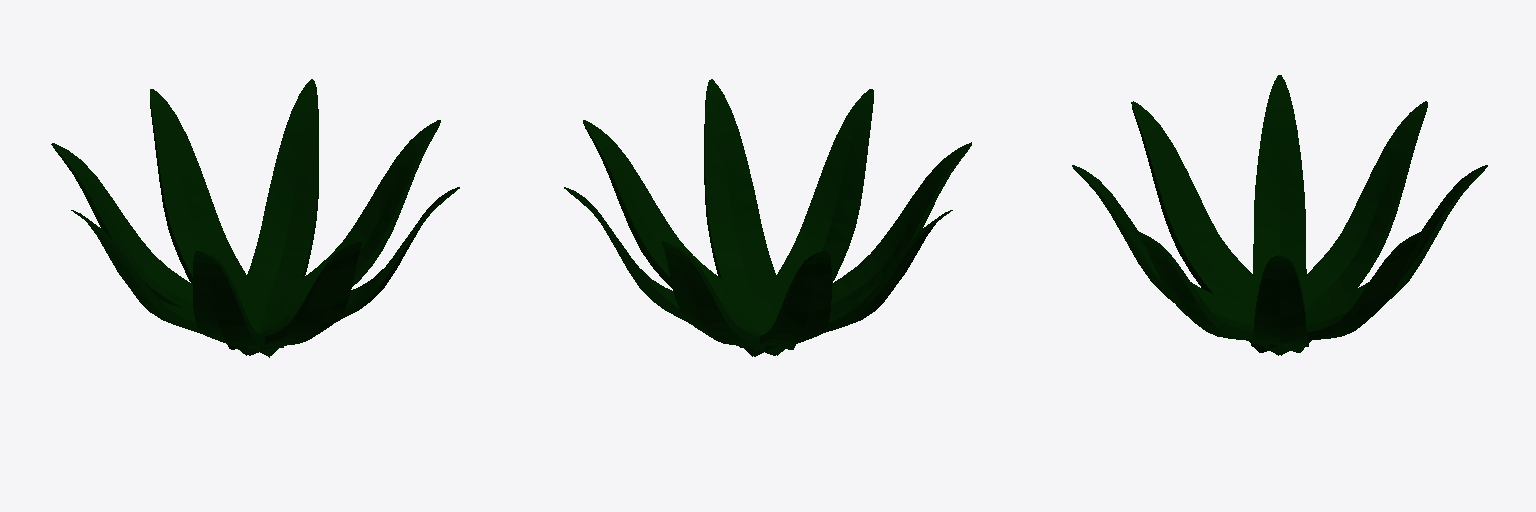
Rendered from grass.obj.
3 views of the same model, side by side, from view 1: azimuth 30°, elevation 25°; view 2: azimuth 150°, elevation 25°; view 3: azimuth 270°, elevation 25° (orthographic).
Parts seen in each view (by area): view 1: Cube.007_Cube.008; view 2: Cube.007_Cube.008; view 3: Cube.007_Cube.008.
Part boxes in pixels (left/top/right/bottom): Cube.007_Cube.008: left=51, top=79, right=459, bottom=357; Cube.007_Cube.008: left=564, top=79, right=971, bottom=356; Cube.007_Cube.008: left=1072, top=75, right=1487, bottom=355.
Size of the model in its own units: 0.5254 by 0.2468 by 0.5135.